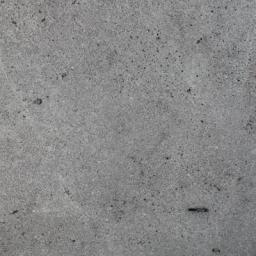FOD: (183, 205, 215, 217)
